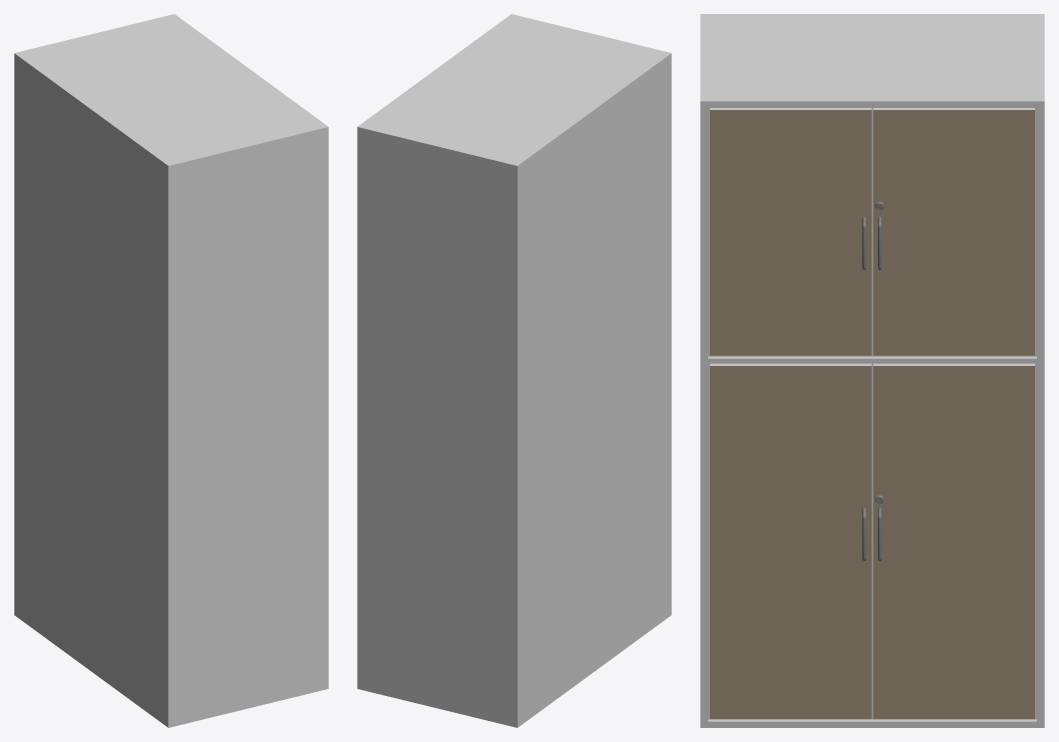
File: armario.fbx
The picture shows the model from 3 angles, left to right: view 1: azimuth 30°, elevation 25°; view 2: azimuth 150°, elevation 25°; view 3: azimuth 270°, elevation 25°; orthographic projection. The views are drawn at different scales.
Parts seen in each view (by area): view 1: armario; view 2: armario; view 3: armario.
Boxes of the visible parts, box(x1,y1,x2,y2) form: armario: box(14, 14, 328, 727); armario: box(357, 14, 671, 727); armario: box(700, 14, 1044, 727).
Size of the model in its own units: 130 by 402 by 200.
